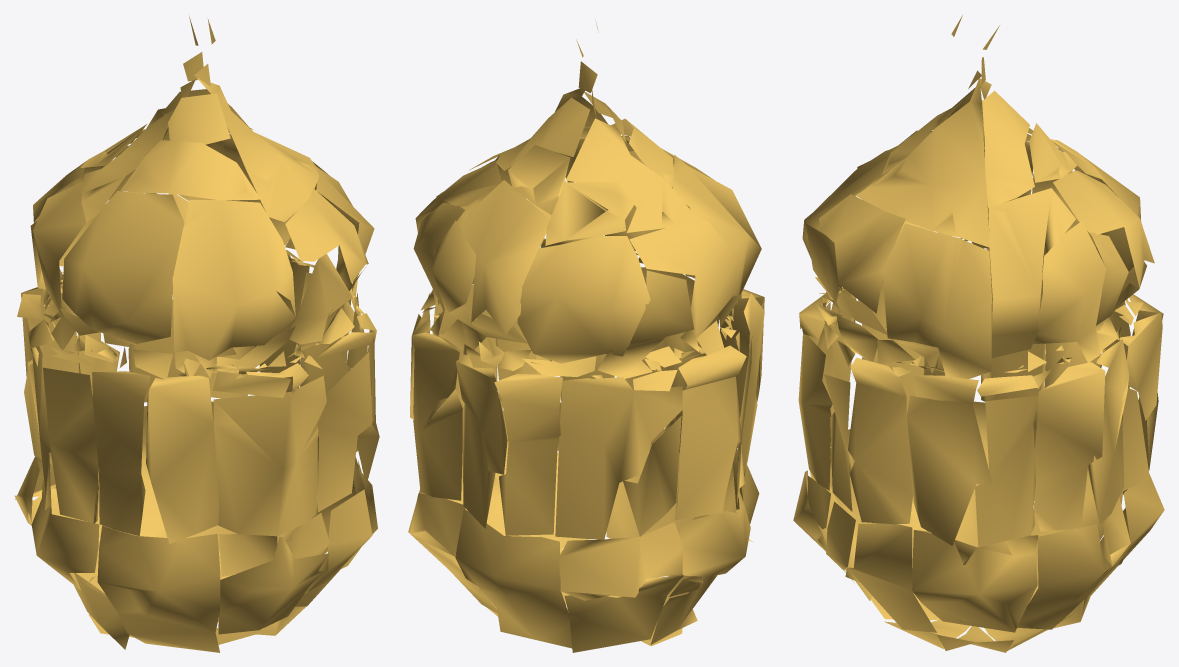
Rendered from lantern.glb.
3 renders of one model, left to right at view 1: azimuth 30°, elevation 25°; view 2: azimuth 150°, elevation 25°; view 3: azimuth 270°, elevation 25°, orthographic.
Visible parts, largest first — view 1: tripo_node_e732f4be-092b-4382-be26-4502a32c1437_n3d; view 2: tripo_node_e732f4be-092b-4382-be26-4502a32c1437_n3d; view 3: tripo_node_e732f4be-092b-4382-be26-4502a32c1437_n3d.
Boxes of the visible parts, bbox=[...] form: tripo_node_e732f4be-092b-4382-be26-4502a32c1437_n3d: bbox=[14, 16, 379, 652]; tripo_node_e732f4be-092b-4382-be26-4502a32c1437_n3d: bbox=[408, 20, 764, 652]; tripo_node_e732f4be-092b-4382-be26-4502a32c1437_n3d: bbox=[793, 15, 1164, 652].
Size of the model in its own units: 2.32 by 4.11 by 2.28.
